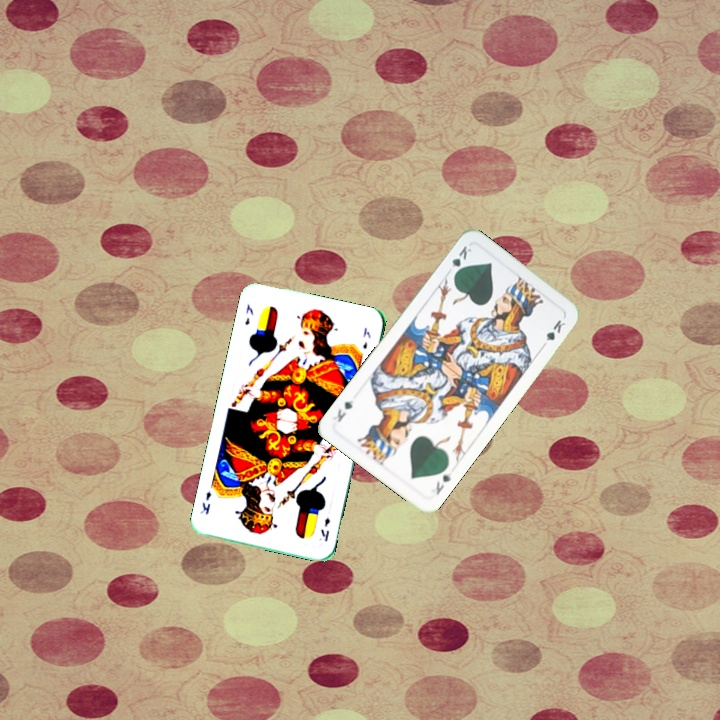EK: (317, 514, 333, 544), (241, 300, 256, 328)
GK: (443, 241, 474, 279), (431, 468, 455, 497)
